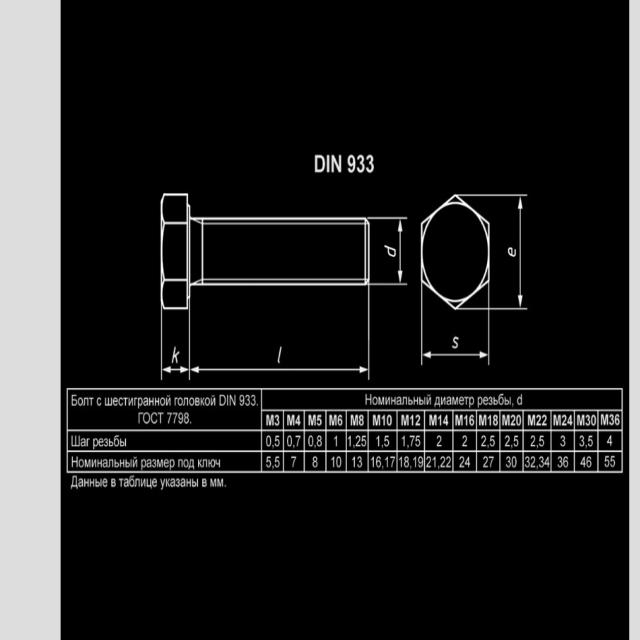marking_line: (191, 365, 367, 376), (423, 350, 487, 363), (517, 198, 524, 309), (396, 221, 403, 282), (163, 365, 188, 375)
numeric: (369, 455, 396, 470), (426, 455, 453, 469), (525, 455, 550, 469), (399, 455, 424, 468), (348, 433, 367, 448), (503, 435, 521, 449), (265, 434, 281, 449), (266, 455, 281, 471), (308, 434, 324, 449), (402, 435, 422, 447), (529, 433, 546, 447), (481, 455, 496, 469), (506, 455, 520, 470), (579, 436, 594, 450), (375, 434, 391, 447), (481, 435, 495, 449), (287, 435, 301, 448), (330, 456, 343, 470), (351, 455, 363, 470), (557, 455, 569, 470), (581, 455, 593, 468), (604, 455, 616, 467), (460, 455, 471, 468), (289, 455, 298, 469), (606, 433, 614, 447), (311, 454, 318, 468), (435, 436, 443, 448), (462, 435, 469, 448), (333, 435, 340, 447), (560, 435, 566, 448)
